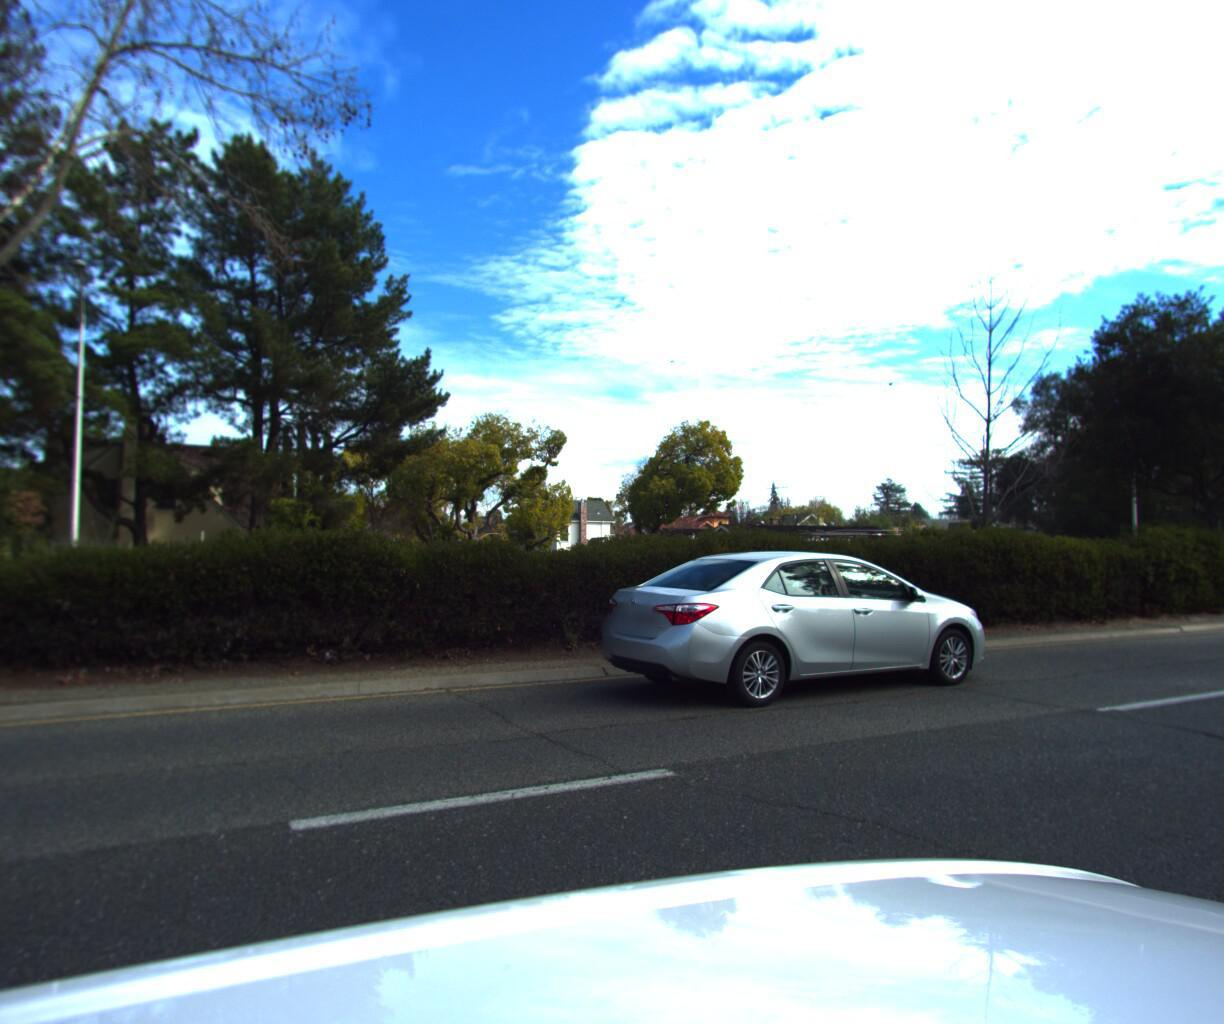car: (582, 550, 1014, 723), (743, 523, 907, 591)
